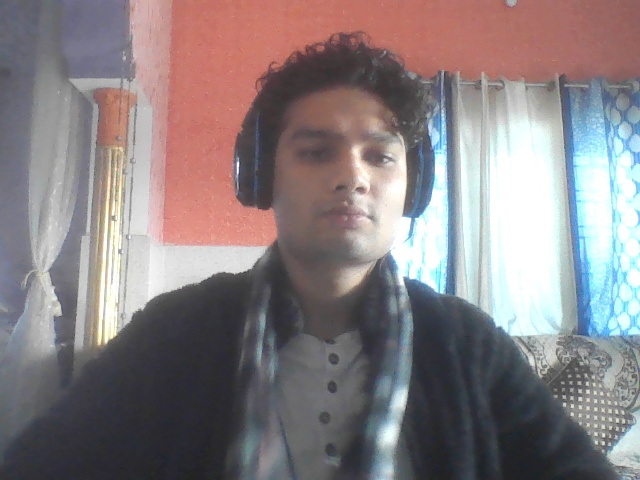real: (250, 36, 420, 277)
